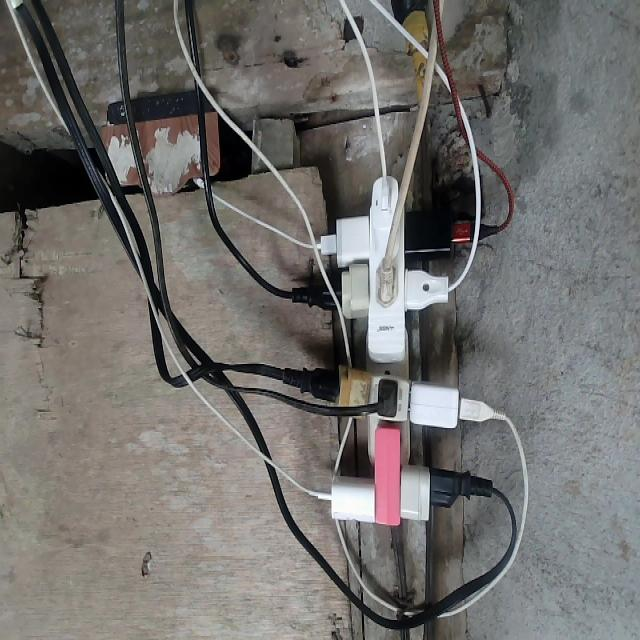-: (303, 175, 490, 534)
